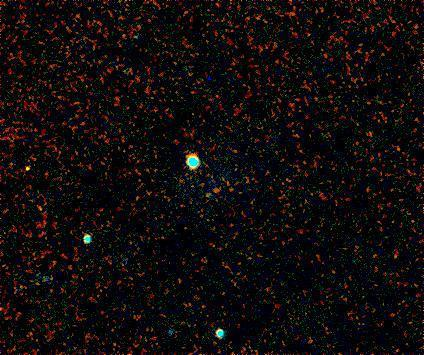star: (15, 150, 45, 180)
